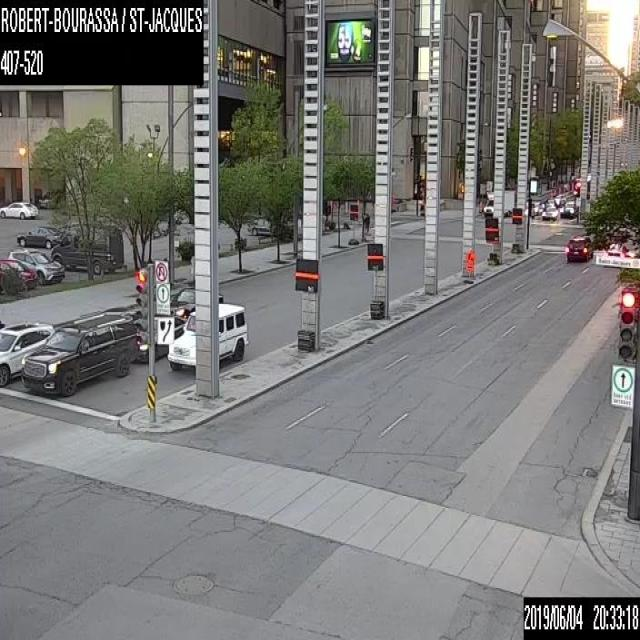bus: (572, 172, 596, 196)
construction: (462, 251, 473, 280)
pedestrian: (363, 211, 368, 232)
vehicle: (21, 313, 139, 394), (168, 302, 246, 371), (0, 320, 55, 387), (51, 225, 123, 271), (8, 249, 64, 284), (17, 225, 62, 248), (483, 188, 514, 215), (564, 234, 592, 262), (0, 201, 39, 218), (248, 216, 279, 236), (559, 200, 576, 216), (541, 204, 558, 218), (530, 198, 542, 214)
